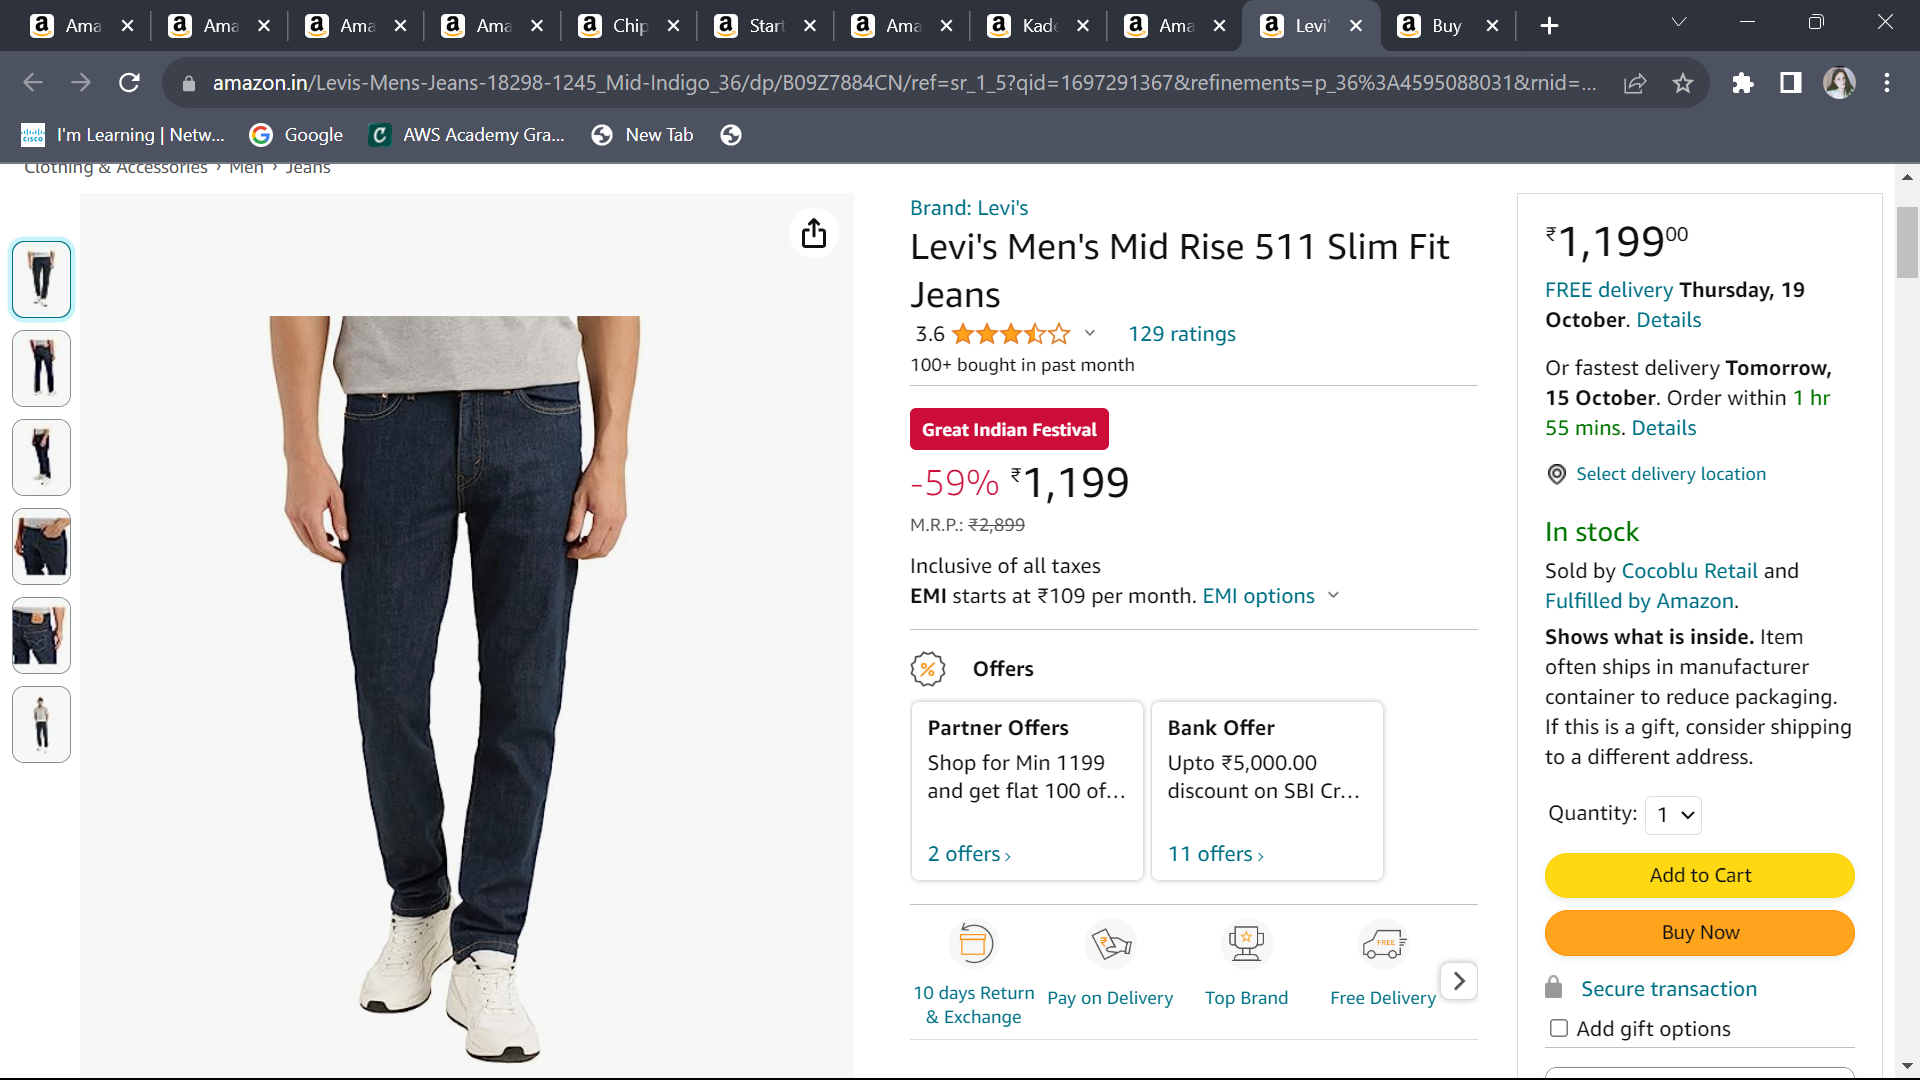Image: (215, 269, 767, 1075)
Paragraph: (895, 657, 1410, 895), (1526, 555, 1875, 786), (878, 212, 1466, 319), (884, 541, 1358, 654), (1535, 855, 1873, 949), (887, 406, 1162, 508), (1532, 359, 1857, 442), (1532, 274, 1837, 340), (907, 328, 1266, 373), (1526, 454, 1788, 513), (1532, 212, 1738, 274), (1514, 794, 1741, 845), (1528, 520, 1679, 555), (1422, 472, 1433, 489)
